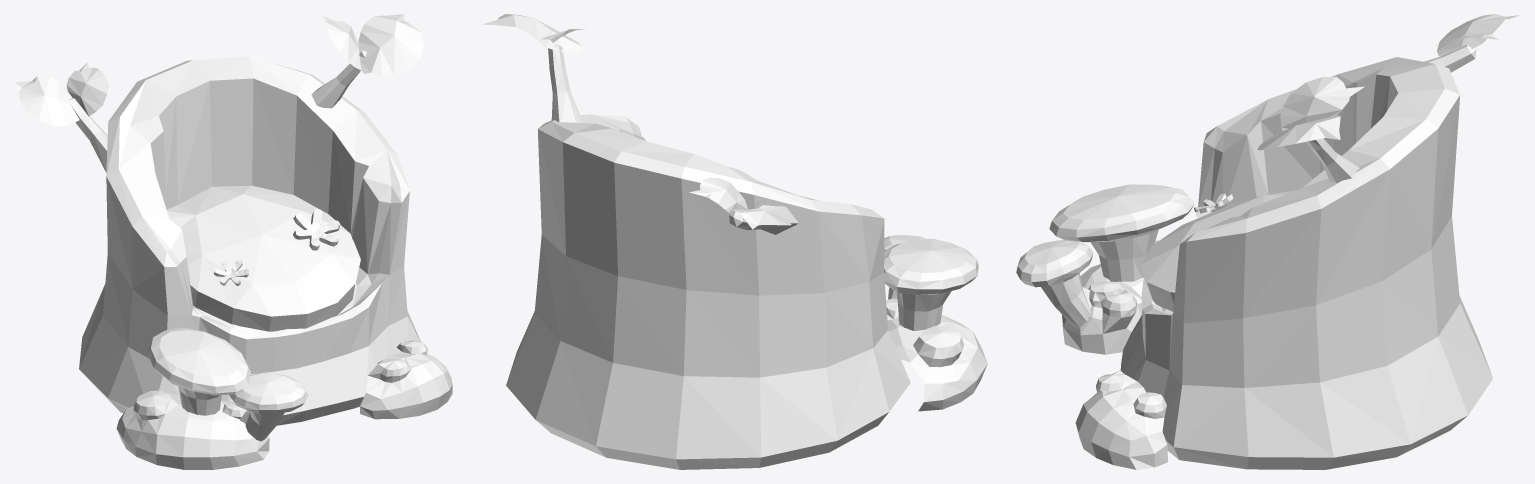
File: g_w_stump.glb
The picture shows the model from 3 angles, left to right: view 1: azimuth 30°, elevation 25°; view 2: azimuth 150°, elevation 25°; view 3: azimuth 270°, elevation 25°; orthographic projection. The views are drawn at different scales.
Parts seen in each view (by area): view 1: o1, o3, o2, o0; view 2: o1, o3, o0; view 3: o1, o3, o0, o2.
Part boxes in pixels (x1,y1,x2,y2): o1: (79, 56, 420, 425); o3: (68, 50, 452, 469); o2: (166, 185, 360, 331); o0: (15, 14, 423, 125); o1: (506, 114, 910, 469); o3: (548, 44, 987, 411); o0: (482, 14, 791, 229); o1: (1120, 57, 1492, 469); o3: (1016, 44, 1476, 469); o0: (1257, 14, 1519, 150); o2: (1140, 190, 1294, 311).
Size of the model in its own units: 0.1708 by 0.1445 by 0.1792.
Materials: 1 (1 with a texture image).
